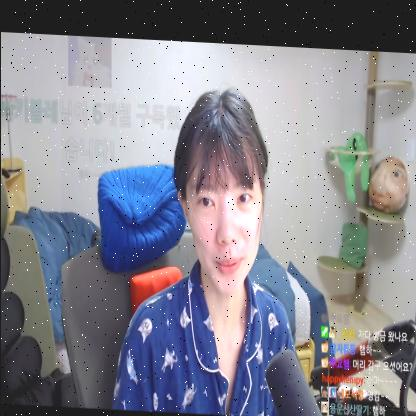donation: (0, 30, 180, 162)
streamer: (110, 80, 294, 415)
